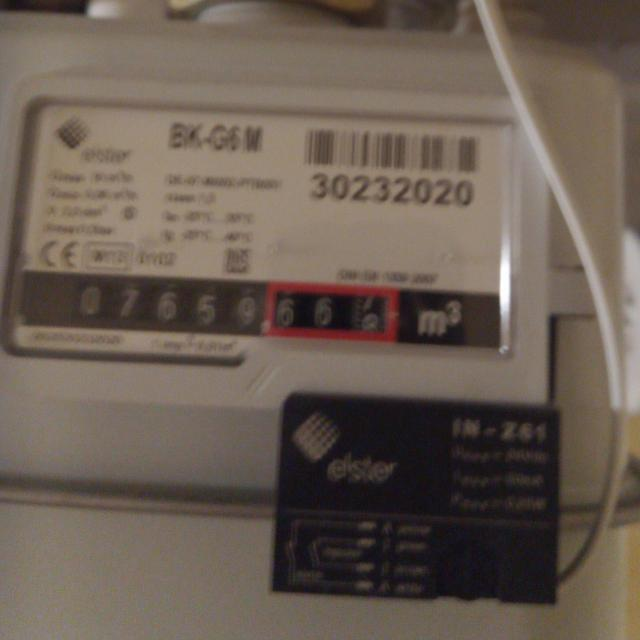gaz_meter: (17, 99, 508, 357)
indication: (47, 267, 404, 349)
